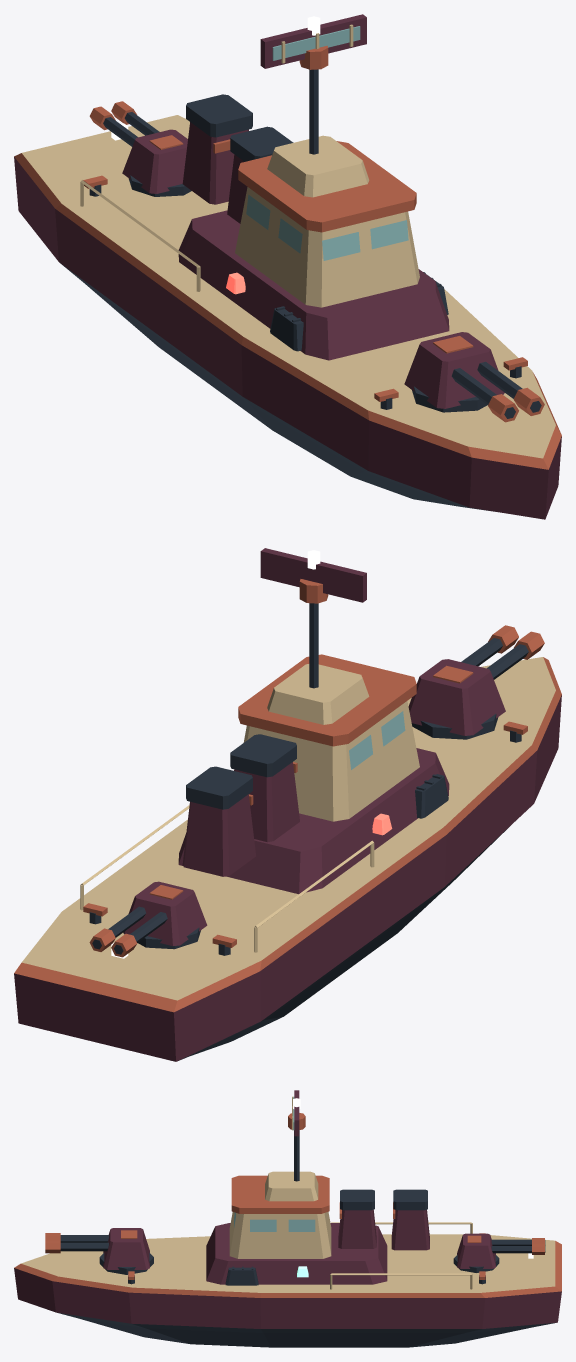
File: cruiser-enemy.glb
3 renders of one model, top to bottom at view 1: azimuth 30°, elevation 25°; view 2: azimuth 150°, elevation 25°; view 3: azimuth 270°, elevation 25°, orthographic. The views are drawn at different scales.
Parts seen in each view (by area): view 1: hull, funnel, turret, radar, turret_aft, barrel, barrel_aft; view 2: hull, funnel, turret, radar, turret_aft, barrel, barrel_aft; view 3: hull, funnel, turret, turret_aft, barrel, barrel_aft, radar.
Boxes of the visible parts, x1,y1,x2,y2 form: hull: (14,69,561,519); funnel: (182,94,293,223); turret: (404,332,504,412); radar: (260,14,366,69); turret_aft: (122,129,191,196); barrel: (451,361,544,422); barrel_aft: (89,101,159,146); hull: (14,603,561,1061); funnel: (182,734,299,876); turret: (408,659,505,739); radar: (260,548,366,603); turret_aft: (123,881,207,949); barrel: (461,625,544,679); barrel_aft: (89,906,167,957); hull: (14,1130,561,1347); funnel: (338,1189,429,1250); turret: (99,1228,153,1274); turret_aft: (453,1233,499,1272); barrel: (45,1233,108,1253); barrel_aft: (491,1238,545,1254); radar: (288,1090,305,1136).
Bounding box in the file's own units: 1.93 × 3.42 × 7.41.
